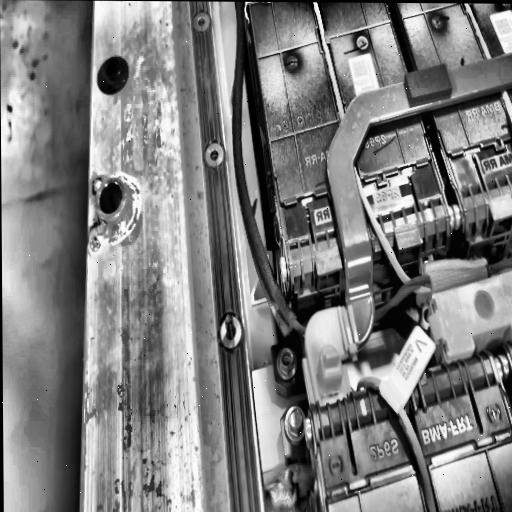busbar: (302, 50, 512, 407)
high_volt_cable: (309, 2, 512, 300), (354, 361, 442, 512), (462, 3, 512, 152)
low_volt_cable: (228, 2, 313, 350)
